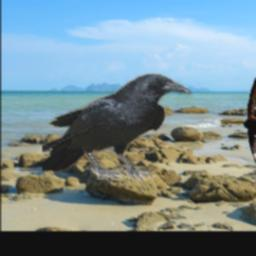Crow: (42, 73, 193, 182)
Swallow: (242, 71, 256, 176)
